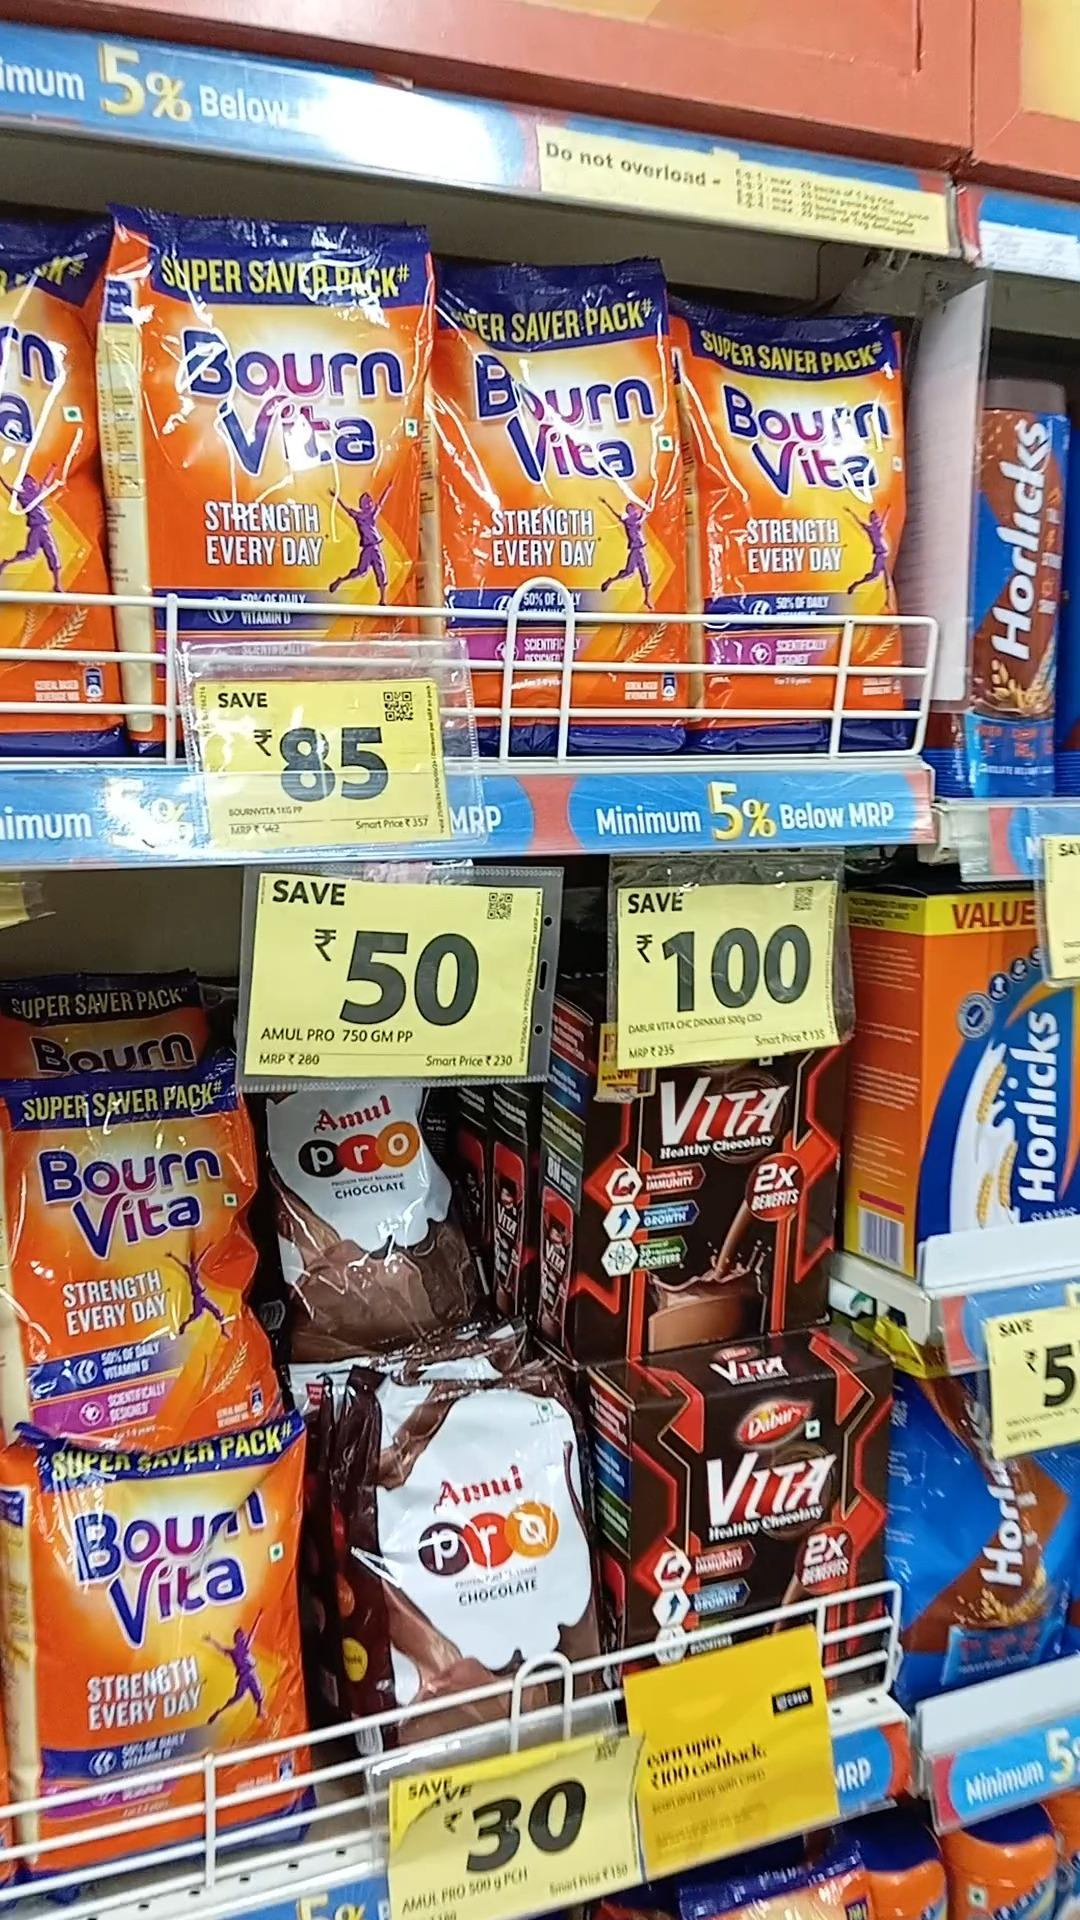BOURN_VITA_1_KG_POUCH: (107, 212, 422, 666), (17, 1423, 314, 1855), (444, 270, 691, 748), (703, 318, 902, 742), (9, 1067, 262, 1394)
